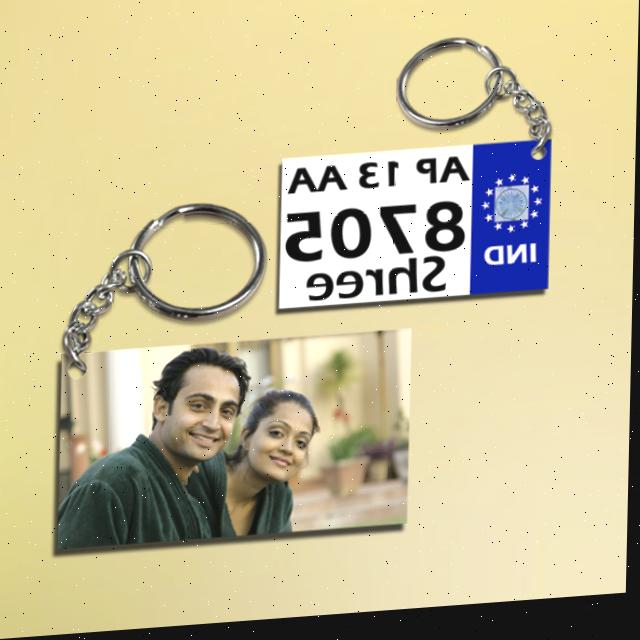plate: (276, 145, 554, 319)
